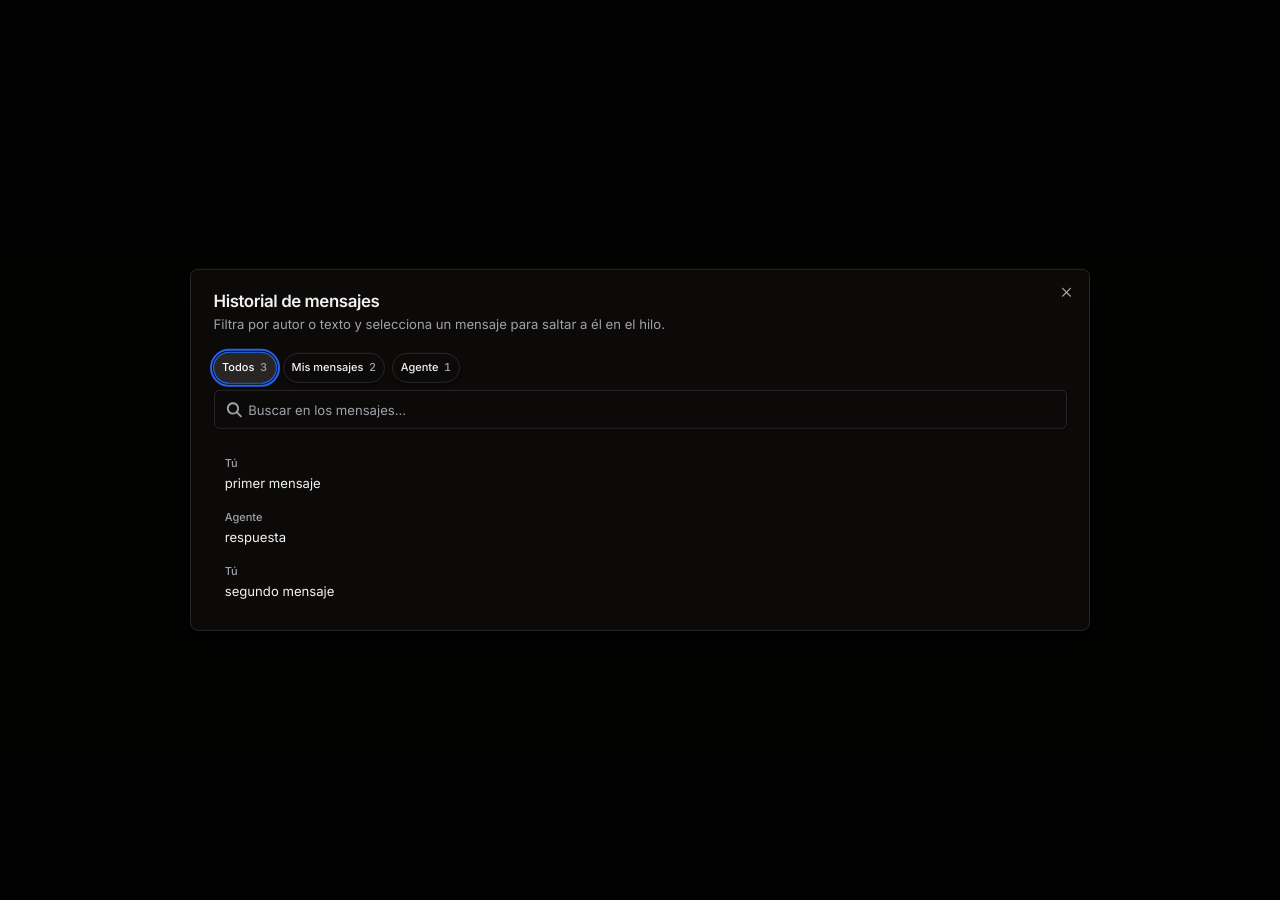
ChatHistoryDialog — filtros combinados (U3) › muestra el vacío de filtros (no el de historial) al combinar autor y texto sin coincidencias
Step 1. Click the button with test id "chat-history-author-user" → click(334, 367), box [283,352,385,382]
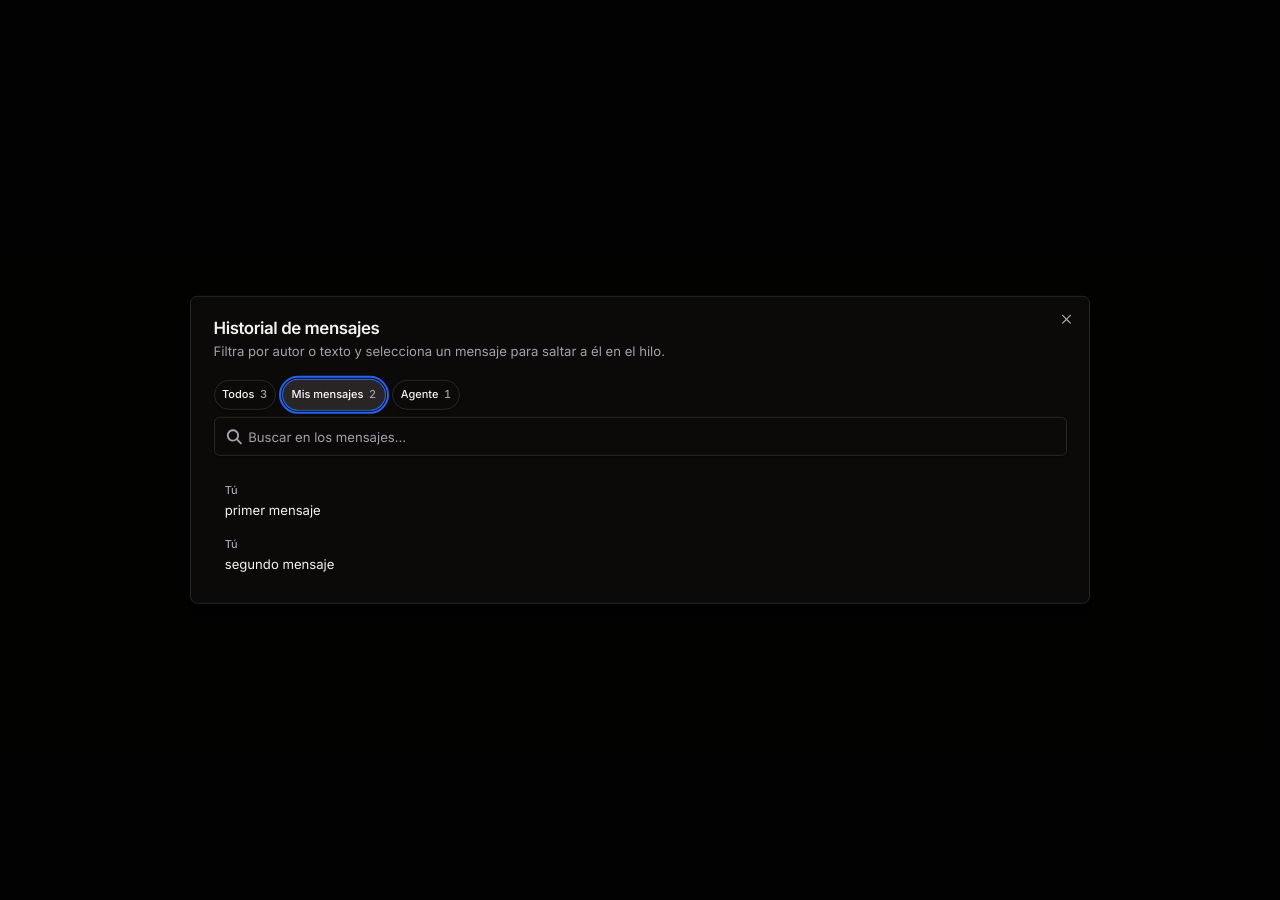
Step 2. Type "respuesta" into the search field labelled "Buscar en los mensajes" → (640, 436), box [214,417,1066,456]
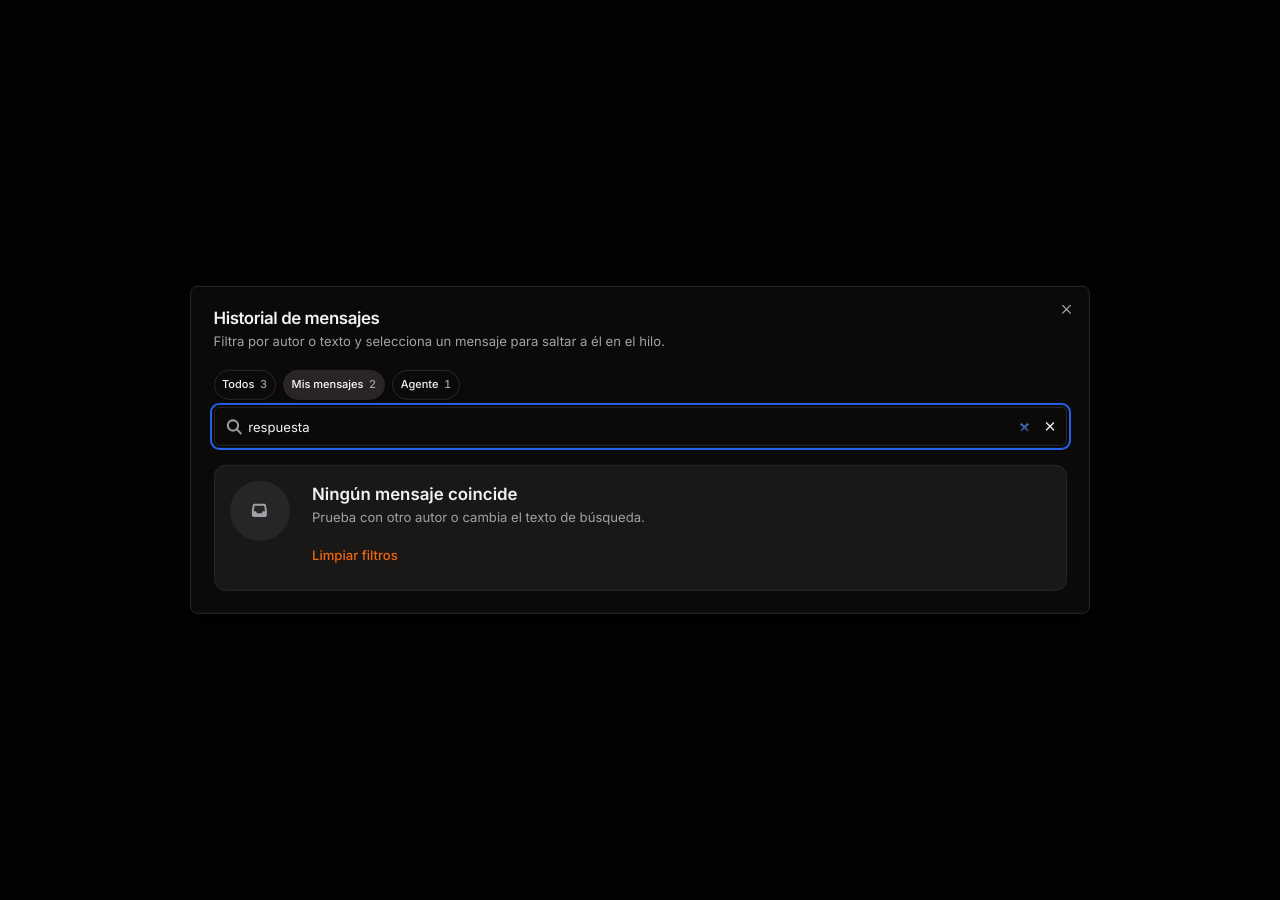
Result: the heading "Ningún mensaje coincide" is shown at [312,481,518,507]
Result: the button with test id "chat-history-item" is gone
